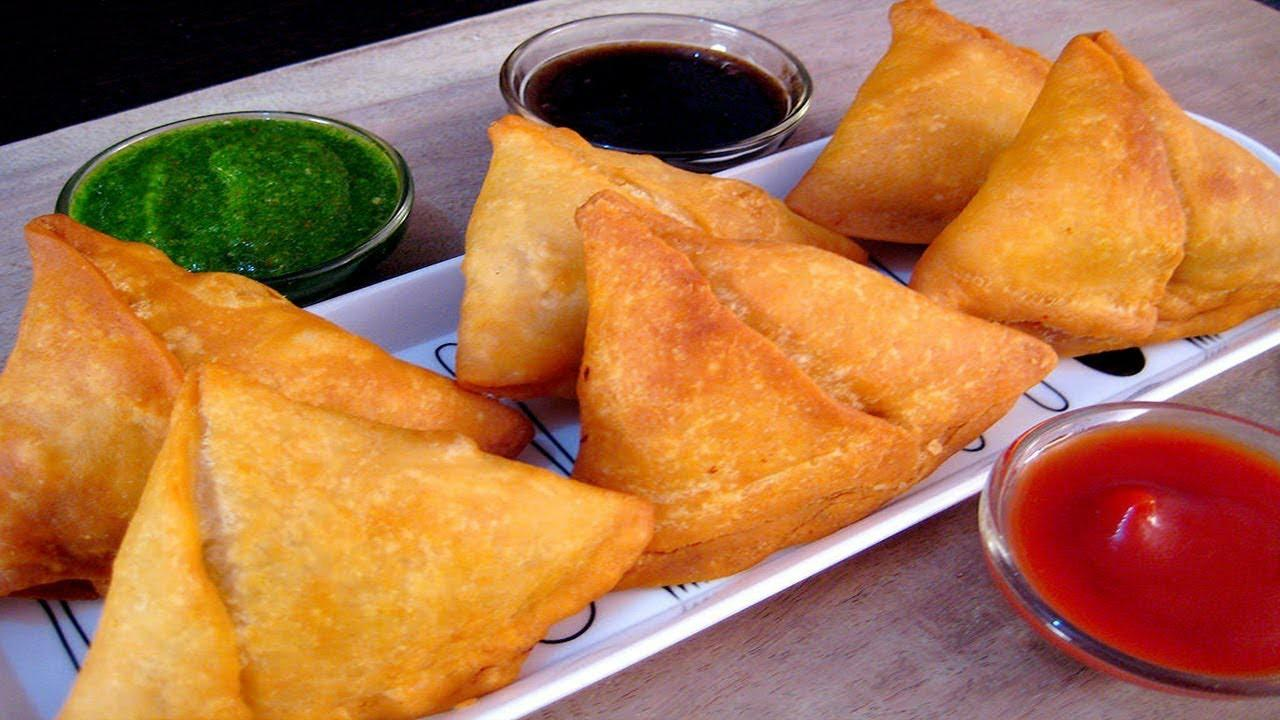GreenChutney: (58, 119, 394, 272)
Samosa: (51, 359, 661, 720), (0, 211, 533, 598), (572, 183, 1058, 588), (451, 113, 873, 406), (905, 32, 1279, 361), (786, 0, 1054, 245)
